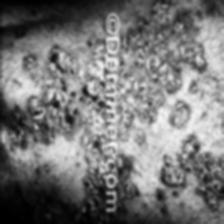Non-Cancerous Skin Condition: (118, 0, 206, 145), (30, 48, 76, 145), (182, 136, 224, 214), (158, 155, 184, 189)
